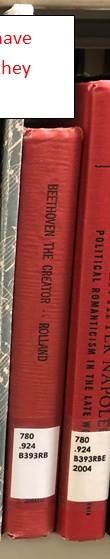call_number: (12, 426, 55, 498), (71, 428, 110, 501)
